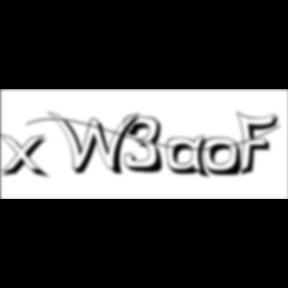3: (124, 116, 170, 176)
F: (236, 110, 284, 178)
W: (48, 110, 146, 178)
a: (167, 135, 215, 182)
o: (203, 137, 245, 179)
x: (0, 132, 54, 181)
